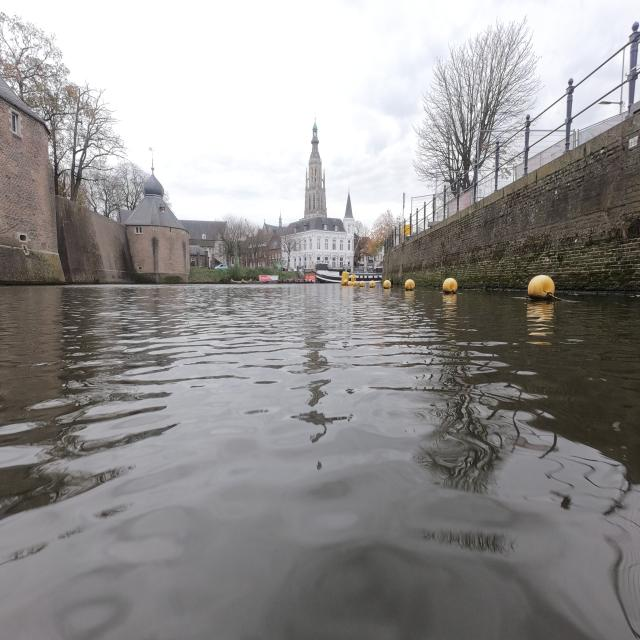grass: (189, 266, 271, 283), (275, 270, 299, 279)
wall: (383, 112, 640, 292), (0, 79, 190, 283)
water: (0, 284, 640, 640)
